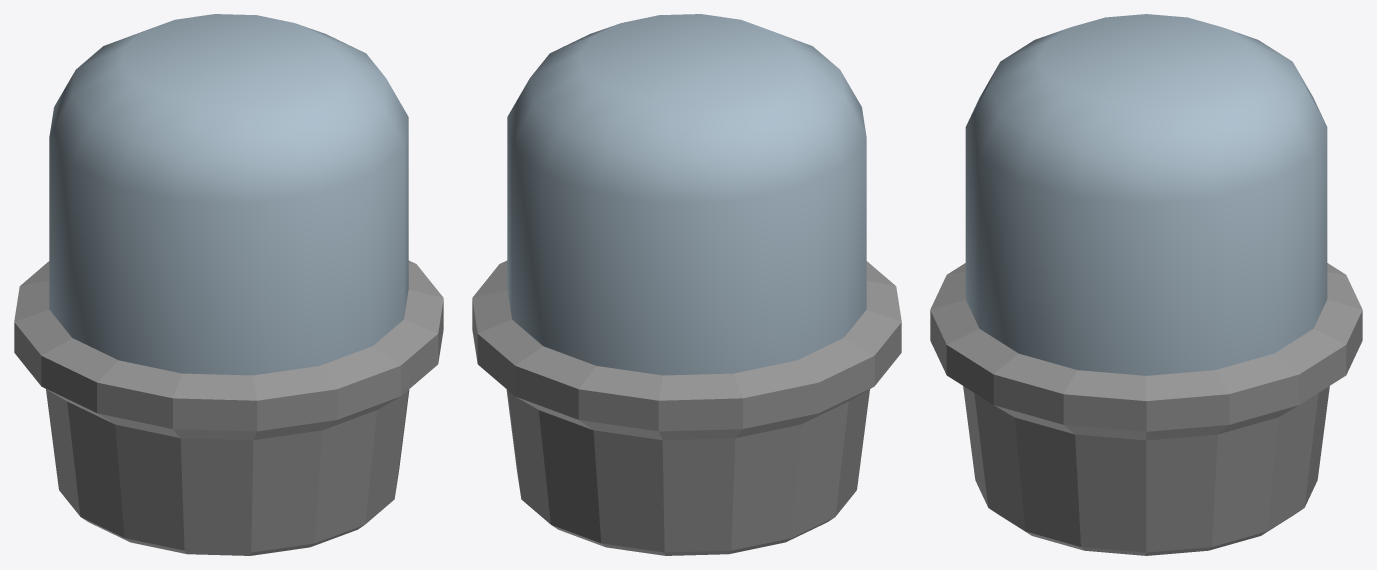
Rendered from plant.fbx.
3 renders of one model, left to right at view 1: azimuth 30°, elevation 25°; view 2: azimuth 150°, elevation 25°; view 3: azimuth 270°, elevation 25°, orthographic.
Parts seen in each view (by area): view 1: plant; view 2: plant; view 3: plant.
Boxes of the visible parts, x1,y1,x2,y2 form: plant: (14, 14, 443, 555); plant: (472, 14, 901, 555); plant: (930, 14, 1362, 555).
Size of the model in its own units: 186 by 203 by 186.
